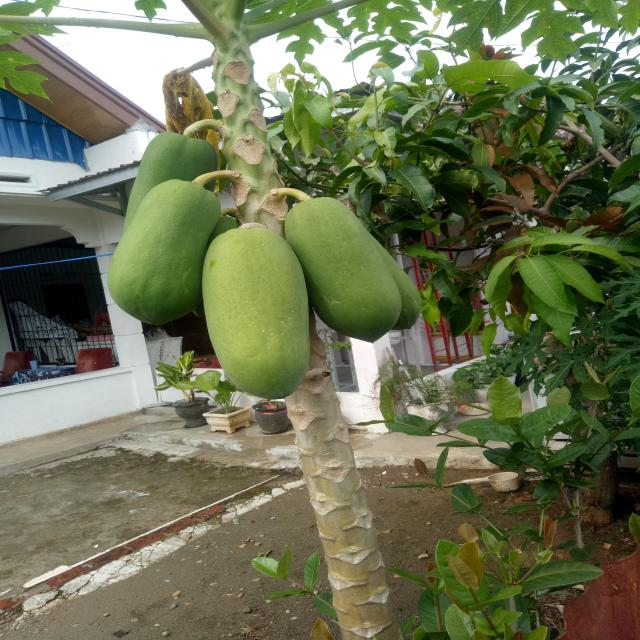Pepaya unrippen: (187, 230, 323, 402), (282, 198, 405, 343), (114, 190, 220, 336)
